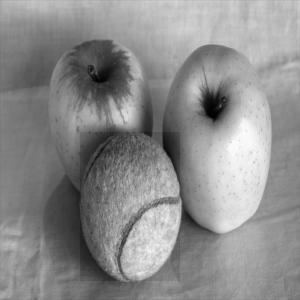TennisBall: (81, 133, 182, 283)
